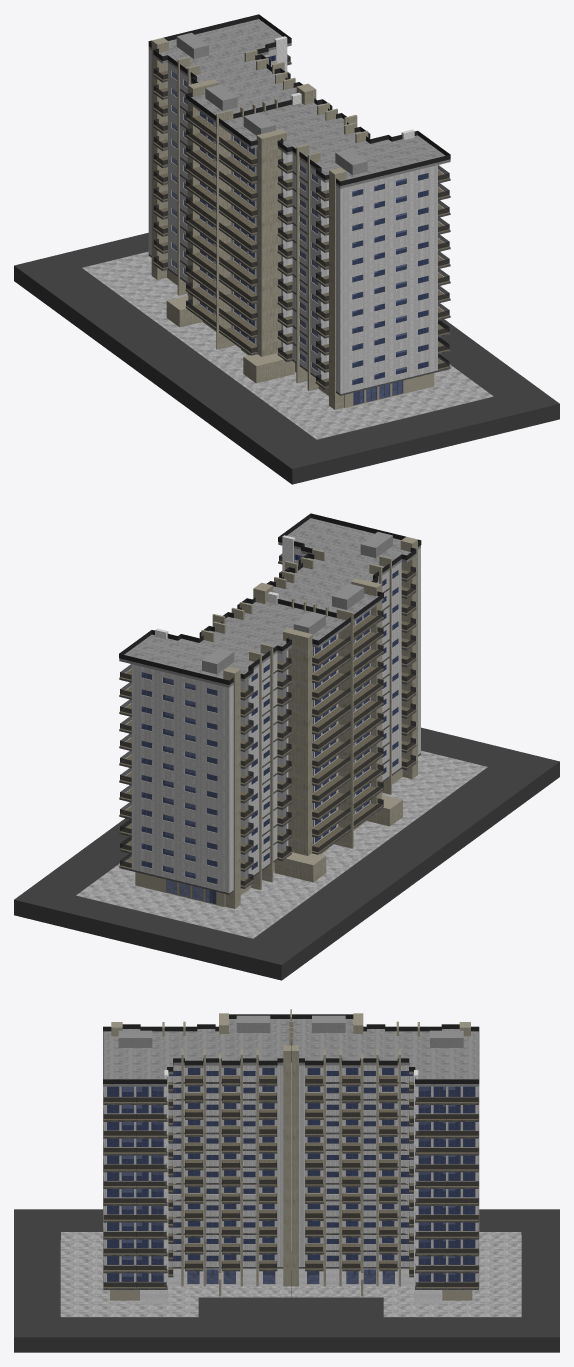
The model's file is building-3d.glb.
3 renders of one model, top to bottom at view 1: azimuth 30°, elevation 25°; view 2: azimuth 150°, elevation 25°; view 3: azimuth 270°, elevation 25°, orthographic.
Parts seen in each view (by area): view 1: Box001, Line003, Box410, Line130, Box403, Line126, Line122, Line005, Box002, Line125, Shape, Box422 (+2 smaller); view 2: Box001, Line003, Box410, Line130, Box403, Line126, Line122, Line005, Box002, Line125, Shape, Box422 (+3 smaller); view 3: Box001, Line003, Line005, Box403, Box002, Line122, Line130, Line126, Box410, Shape, Line125, Box856 (+5 smaller).
Boxes of the visible parts, <box> form: Box001: <box>14,232,559,484</box>; Line003: <box>148,49,437,393</box>; Box410: <box>151,37,368,409</box>; Line130: <box>82,251,493,439</box>; Box403: <box>153,61,450,388</box>; Line126: <box>148,19,450,188</box>; Line122: <box>153,54,449,386</box>; Line005: <box>148,62,450,395</box>; Box002: <box>172,55,427,404</box>; Line125: <box>148,14,450,185</box>; Shape: <box>171,56,428,405</box>; Box422: <box>176,32,367,175</box>; Box001: <box>14,727,559,980</box>; Line003: <box>131,548,420,893</box>; Box410: <box>201,536,417,908</box>; Line130: <box>76,750,487,938</box>; Box403: <box>119,559,416,887</box>; Line126: <box>119,518,420,687</box>; Line122: <box>120,554,415,885</box>; Line005: <box>119,561,420,894</box>; Box002: <box>141,554,397,903</box>; Line125: <box>119,513,421,685</box>; Shape: <box>141,554,398,904</box>; Box422: <box>202,532,392,674</box>; Box001: <box>14,1209,559,1352</box>; Line003: <box>103,1065,479,1282</box>; Line005: <box>103,1068,478,1289</box>; Box403: <box>103,1075,479,1288</box>; Box002: <box>107,1068,475,1283</box>; Line122: <box>103,1076,478,1286</box>; Line130: <box>60,1232,521,1317</box>; Line126: <box>103,1019,479,1086</box>; Box410: <box>111,1009,470,1296</box>; Shape: <box>107,1068,475,1284</box>; Line125: <box>103,1014,479,1083</box>; Box856: <box>140,1070,442,1304</box>.
Size of the model in its own units: 49.1 by 44.74 by 88.33.
15 materials, 8 textured.
